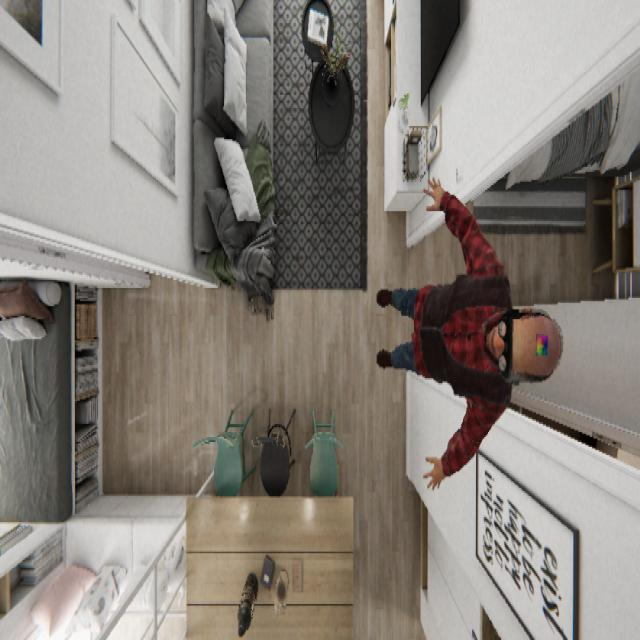Colored-Marker: (534, 328, 549, 358)
Human: (375, 173, 563, 492)
